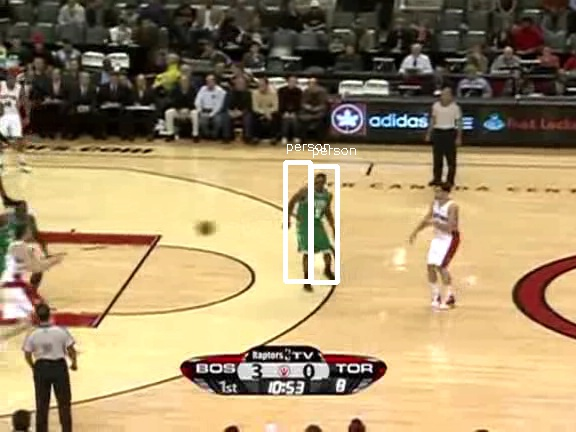person: (298, 181, 332, 262), (297, 181, 331, 262), (299, 181, 333, 262), (298, 180, 332, 261), (298, 182, 332, 263)
target_negative: (149, 276, 399, 423), (123, 5, 138, 396), (352, 324, 427, 393), (94, 352, 197, 393), (92, 386, 406, 396), (478, 388, 483, 402)
